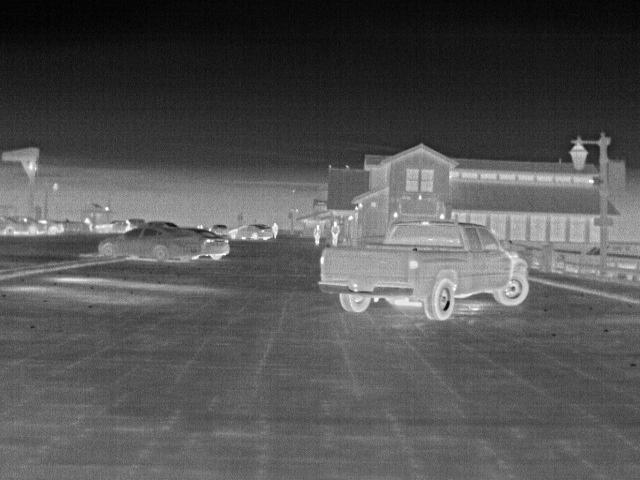car: (314, 219, 531, 322), (98, 226, 201, 266), (185, 227, 231, 261), (228, 223, 275, 242), (6, 218, 43, 237), (32, 218, 68, 234), (211, 223, 228, 237)
person: (330, 220, 343, 248), (313, 223, 326, 249)
